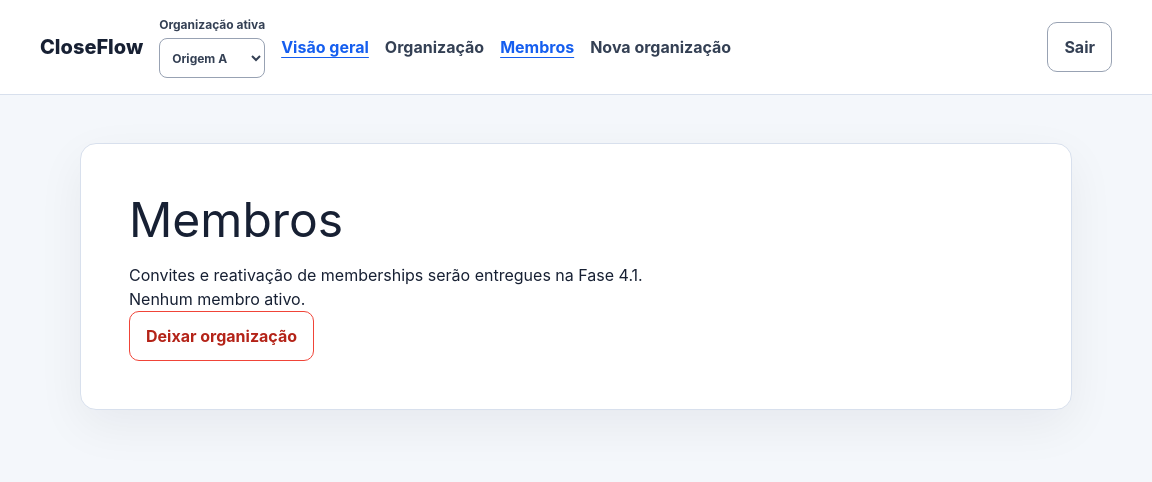
saída voluntária e seleção atual do tenant › preserva acesso e seleção quando a mutation falha
The width and height of the screenshot is (1152, 482).
Step 1. Click the button "Deixar organização" → click(222, 336), box left=129, top=311, right=314, bottom=361
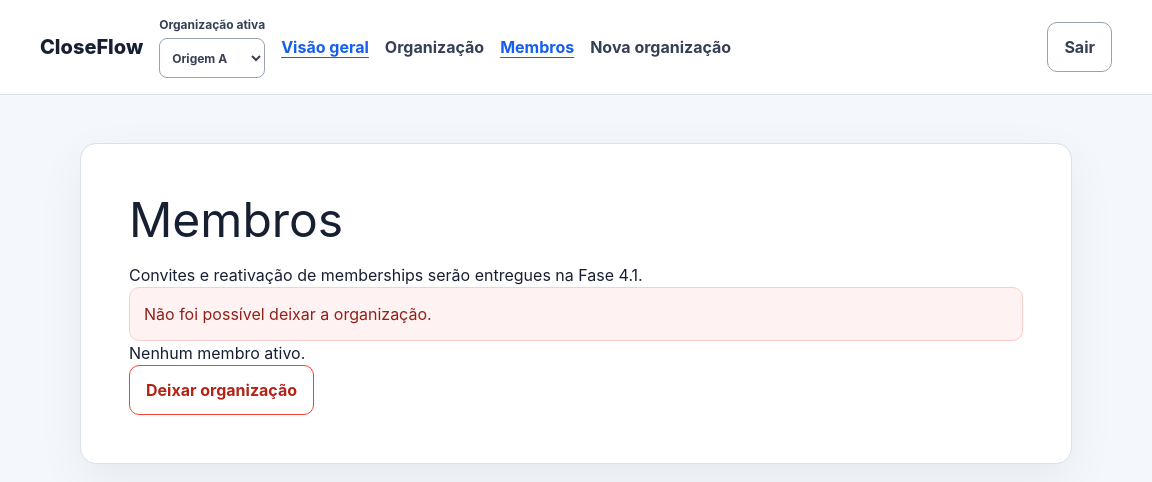
Check: the message reads "Não foi possível deixar a organização.", box left=144, top=304, right=432, bottom=324
